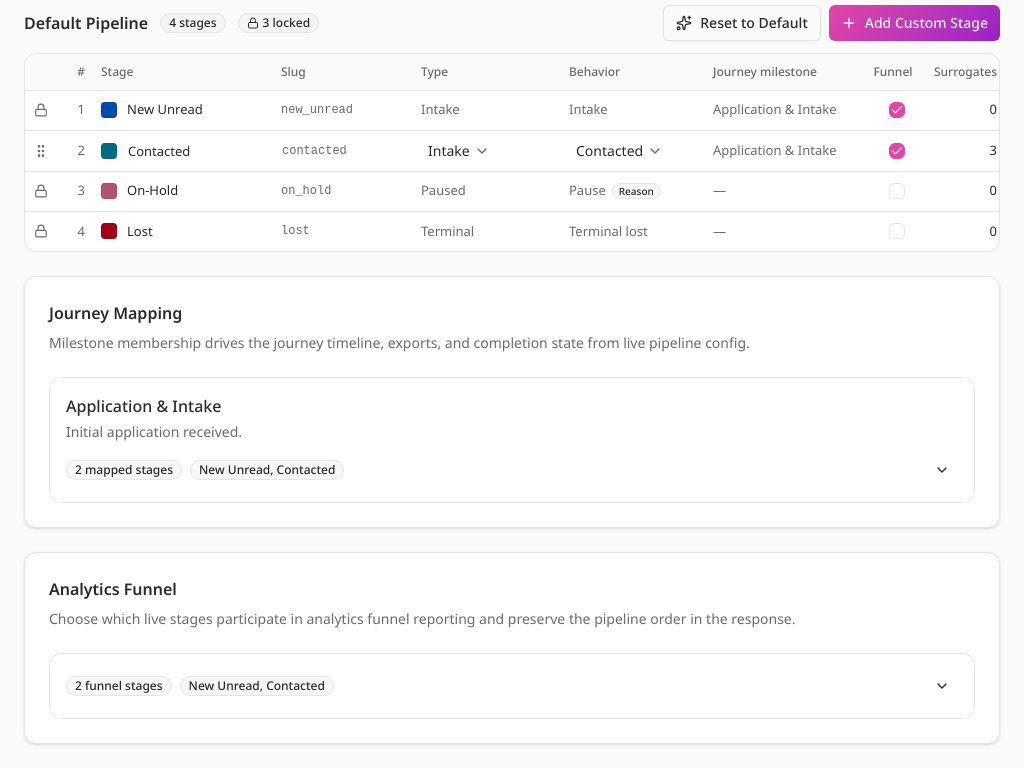
Test case: PipelinesSettingsPage › hides analytics funnel details by default and expands them on demand
The width and height of the screenshot is (1024, 768).
(page scrolled)
Click the button named "edit details for analytics funnel" at (942,686), box x1=926 y1=670 x2=958 y2=702
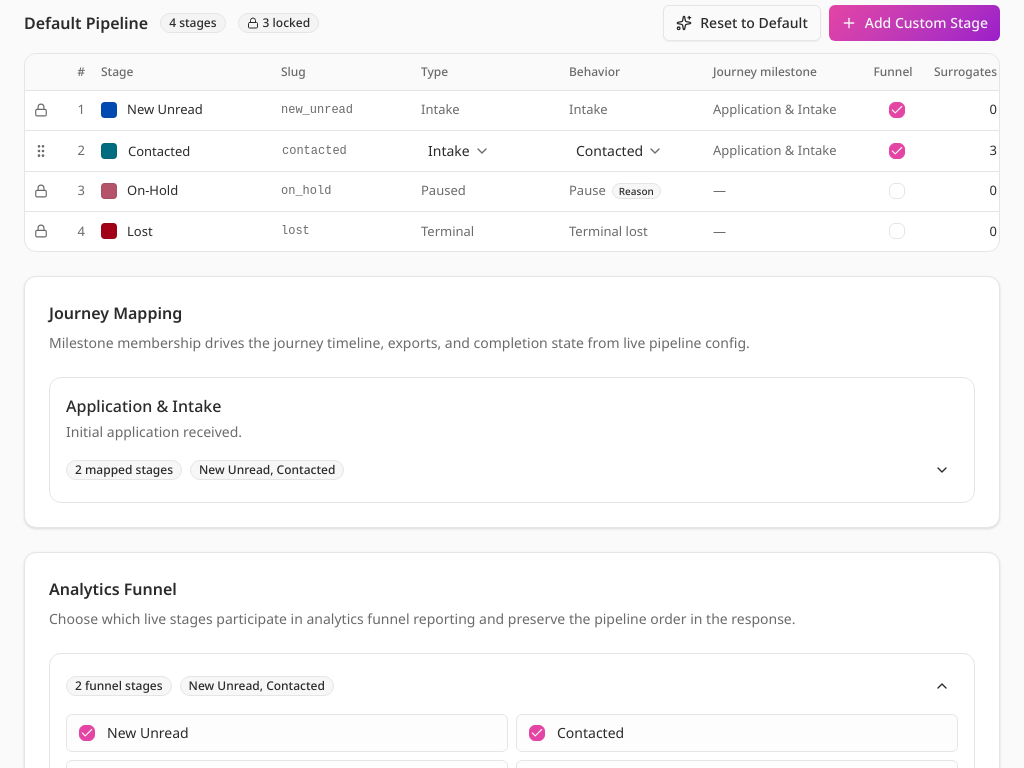
expect the text "2 funnel stages" is shown: met, box x1=66 y1=676 x2=172 y2=696
expect the checkbox named "Include New Unread in analytics funnel" is shown: met, box x1=79 y1=725 x2=95 y2=741
